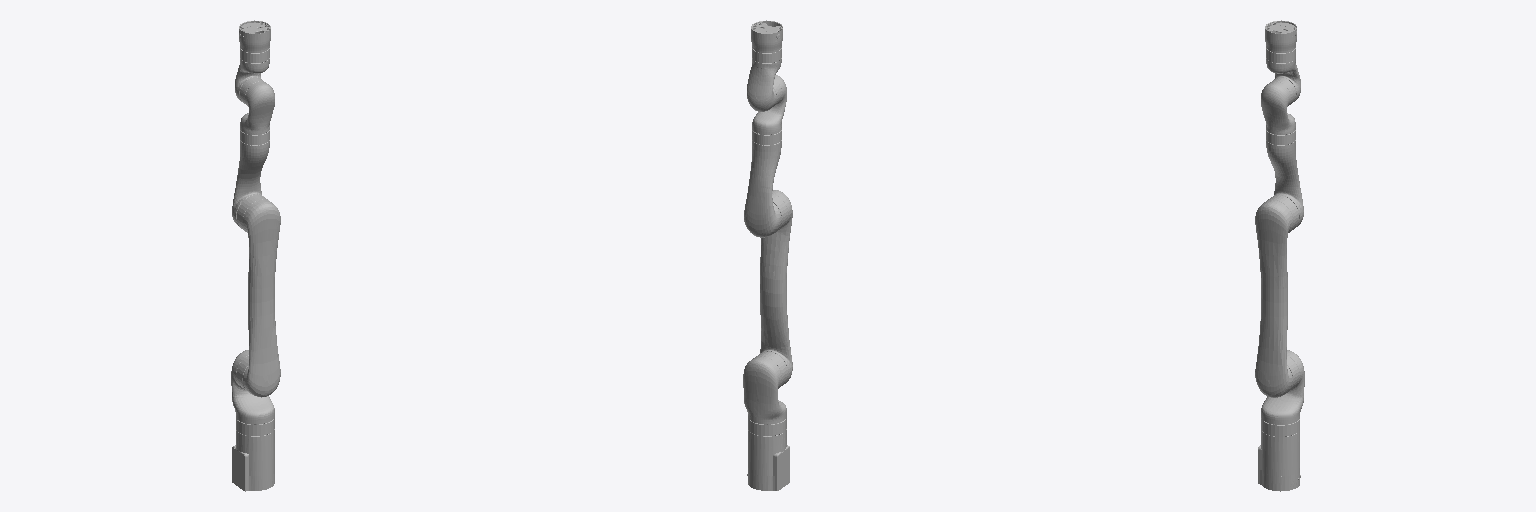
The robot description file, URDF, robot "GEN3-6DOF_NO-VISION_URDF_ARM_V01":
<robot name="GEN3-6DOF_NO-VISION_URDF_ARM_V01" version="1.0">
  <link name="base_link">
    <inertial>
      <origin xyz="-0.000648 -0.000166 0.084487" rpy="0 0 0" />
      <mass value="1.697" />
      <inertia ixx="0.004622" ixy="9E-06" ixz="6E-05" iyy="0.004495" iyz="9E-06" izz="0.002079" />
    </inertial>
    <visual>
      <origin xyz="0 0 0" rpy="0 0 0" />
      <geometry>
        <mesh filename="meshes/base_link.obj" />
      </geometry>
      <material name="">
        <color rgba="0.75294 0.75294 0.75294 1" />
      </material>
    </visual>
    <collision>
      <origin xyz="0 0 0" rpy="0 0 0" />
      <geometry>
        <mesh filename="meshes/base_link.obj" />
      </geometry>
    </collision>
  </link>
  <link name="shoulder_link">
    <inertial>
      <origin xyz="-2.3E-05 -0.010364 -0.07336" rpy="0 0 0" />
      <mass value="1.377" />
      <inertia ixx="0.00457" ixy="1E-06" ixz="2E-06" iyy="0.004831" iyz="0.000448" izz="0.001409" />
    </inertial>
    <visual>
      <origin xyz="0 0 0" rpy="0 0 0" />
      <geometry>
        <mesh filename="meshes/shoulder_link.obj" />
      </geometry>
      <material name="">
        <color rgba="0.75294 0.75294 0.75294 1" />
      </material>
    </visual>
    <collision>
      <origin xyz="0 0 0" rpy="0 0 0" />
      <geometry>
        <mesh filename="meshes/shoulder_link.obj" />
      </geometry>
    </collision>
  </link>
  <joint name="joint_1" type="revolute">
    <origin xyz="0 0 0.15643" rpy="-3.1416 0 0" />
    <parent link="base_link" />
    <child link="shoulder_link" />
    <axis xyz="0 0 1" />
    <limit lower="-1.05" upper="1.05" effort="39" velocity="0.8727" />
  </joint>
  <link name="bicep_link">
    <inertial>
      <origin xyz="3.5E-05 -0.208207 -0.01889" rpy="0 0 0" />
      <mass value="1.262" />
      <inertia ixx="0.046752" ixy="-9E-06" ixz="0" iyy="0.00085" iyz="-9.8E-05" izz="0.047188" />
    </inertial>
    <visual>
      <origin xyz="0 0 0" rpy="0 0 0" />
      <geometry>
        <mesh filename="meshes/bicep_link.obj" />
      </geometry>
      <material name="">
        <color rgba="0.75294 0.75294 0.75294 1" />
      </material>
    </visual>
    <collision>
      <origin xyz="0 0 0" rpy="0 0 0" />
      <geometry>
        <mesh filename="meshes/bicep_link.obj" />
      </geometry>
    </collision>
  </link>
  <joint name="joint_2" type="revolute">
    <origin xyz="0 0.005375 -0.12838" rpy="1.5708 0 0" />
    <parent link="shoulder_link" />
    <child link="bicep_link" />
    <axis xyz="0 0 1" />
    <limit lower="0" upper="2.41" effort="39" velocity="0.8727" />
  </joint>
  <link name="forearm_link">
    <inertial>
      <origin xyz="1.8E-05 0.076168 -0.01397" rpy="0 0 0" />
      <mass value="0.93" />
      <inertia ixx="0.008292" ixy="-1E-06" ixz="0" iyy="0.000628" iyz="0.000432" izz="0.008464" />
    </inertial>
    <visual>
      <origin xyz="0 0 0" rpy="0 0 0" />
      <geometry>
        <mesh filename="meshes/forearm_link.obj" />
      </geometry>
      <material name="">
        <color rgba="0.75294 0.75294 0.75294 1" />
      </material>
    </visual>
    <collision>
      <origin xyz="0 0 0" rpy="0 0 0" />
      <geometry>
        <mesh filename="meshes/forearm_link.obj" />
      </geometry>
    </collision>
  </link>
  <joint name="joint_3" type="revolute">
    <origin xyz="0 -0.41 0" rpy="3.1416 0 0" />
    <parent link="bicep_link" />
    <child link="forearm_link" />
    <axis xyz="0 0 1" />
    <limit lower="-2.66" upper="2.66" effort="39" velocity="0.8727" />
  </joint>
  <link name="spherical_wrist_1_link">
    <inertial>
      <origin xyz="-1E-06 0.008486 -0.062937" rpy="0 0 0" />
      <mass value="0.678" />
      <inertia ixx="0.001645" ixy="0" ixz="0" iyy="0.001666" iyz="-0.000234" izz="0.000389" />
    </inertial>
    <visual>
      <origin xyz="0 0 0" rpy="0 0 0" />
      <geometry>
        <mesh filename="meshes/spherical_wrist_1_link.obj" />
      </geometry>
      <material name="">
        <color rgba="0.75294 0.75294 0.75294 1" />
      </material>
    </visual>
    <collision>
      <origin xyz="0 0 0" rpy="0 0 0" />
      <geometry>
        <mesh filename="meshes/spherical_wrist_1_link.obj" />
      </geometry>
    </collision>
  </link>
  <joint name="joint_4" type="revolute">
    <origin xyz="0 0.20843 -0.006375" rpy="1.5708 0 0" />
    <parent link="forearm_link" />
    <child link="spherical_wrist_1_link" />
    <axis xyz="0 0 1" />
    <limit lower="-3.14" upper="3.14" effort="9" velocity="0.8727" />
  </joint>
  <link name="spherical_wrist_2_link">
    <inertial>
      <origin xyz="-1E-06 0.046429 -0.008704" rpy="0 0 0" />
      <mass value="0.678" />
      <inertia ixx="0.001685" ixy="0" ixz="0" iyy="0.0004" iyz="0.000255" izz="0.001696" />
    </inertial>
    <visual>
      <origin xyz="0 0 0" rpy="0 0 0" />
      <geometry>
        <mesh filename="meshes/spherical_wrist_2_link.obj" />
      </geometry>
      <material name="">
        <color rgba="0.75294 0.75294 0.75294 1" />
      </material>
    </visual>
    <collision>
      <origin xyz="0 0 0" rpy="0 0 0" />
      <geometry>
        <mesh filename="meshes/spherical_wrist_2_link.obj" />
      </geometry>
    </collision>
  </link>
  <joint name="joint_5" type="revolute">
    <origin xyz="0 -0.00017505 -0.10593" rpy="-1.5708 0 0" />
    <parent link="spherical_wrist_1_link" />
    <child link="spherical_wrist_2_link" />
    <axis xyz="0 0 1" />
    <limit lower="-2.23" upper="2.23" effort="9" velocity="0.8727" />
  </joint>
  <link name="bracelet_link">
    <inertial>
      <origin xyz="-9.3E-05 0.000132 -0.022905" rpy="0 0 0" />
      <mass value="0.364" />
      <inertia ixx="0.000214" ixy="0" ixz="1E-06" iyy="0.000223" iyz="-2E-06" izz="0.00024" />
    </inertial>
    <visual>
      <origin xyz="0 0 0" rpy="0 0 0" />
      <geometry>
        <mesh filename="meshes/bracelet_no_vision_link.obj" />
      </geometry>
      <material name="">
        <color rgba="0.75294 0.75294 0.75294 1" />
      </material>
    </visual>
    <collision>
      <origin xyz="0 0 0" rpy="0 0 0" />
      <geometry>
        <mesh filename="meshes/bracelet_no_vision_link.obj" />
      </geometry>
    </collision>
  </link>
  <joint name="joint_6" type="revolute">
    <origin xyz="0 0.10593 -0.00017505" rpy="1.5708 0 0" />
    <parent link="spherical_wrist_2_link" />
    <child link="bracelet_link" />
    <axis xyz="0 0 1" />
    <limit lower="-1.57" upper="1.57" effort="9" velocity="0.8727" />
  </joint>
  <link name="EndEffector_Link" />
  <joint name="EndEffector" type="fixed">
    <origin xyz="0 0 -0.061525" rpy="0 0 0" />
    <parent link="bracelet_link" />
    <child link="EndEffector_Link" />
    <axis xyz="0 0 0" />
  </joint>
</robot>

--- What the picture shows (computed from the rendered views, not written in the file) ---
The picture shows the robot from 3 angles, left to right: view 1: azimuth 30°, elevation 25°; view 2: azimuth 150°, elevation 25°; view 3: azimuth 330°, elevation 25°; orthographic projection.
Model GEN3-6DOF_NO-VISION_URDF_ARM_V01 with 8 links and 7 joints (6 revolute, 1 fixed), rooted at base_link, posed all joints at 0.
Links seen in each view (by area): view 1: bicep_link, base_link, forearm_link, shoulder_link, spherical_wrist_1_link, bracelet_link, spherical_wrist_2_link; view 2: bicep_link, forearm_link, base_link, shoulder_link, spherical_wrist_2_link, spherical_wrist_1_link, bracelet_link; view 3: bicep_link, base_link, forearm_link, shoulder_link, spherical_wrist_1_link, bracelet_link, spherical_wrist_2_link.
Link boxes in pixels (x1=…): bicep_link: x1=237, y1=195, x2=280, y2=397; base_link: x1=232, y1=418, x2=274, y2=491; forearm_link: x1=232, y1=130, x2=269, y2=225; shoulder_link: x1=231, y1=350, x2=274, y2=424; spherical_wrist_1_link: x1=240, y1=77, x2=274, y2=134; bracelet_link: x1=239, y1=20, x2=270, y2=52; spherical_wrist_2_link: x1=235, y1=48, x2=269, y2=101; bicep_link: x1=760, y1=190, x2=792, y2=383; forearm_link: x1=744, y1=130, x2=781, y2=237; base_link: x1=747, y1=418, x2=789, y2=490; shoulder_link: x1=743, y1=351, x2=787, y2=424; spherical_wrist_2_link: x1=747, y1=48, x2=781, y2=111; spherical_wrist_1_link: x1=752, y1=75, x2=786, y2=134; bracelet_link: x1=751, y1=20, x2=782, y2=52; bicep_link: x1=1255, y1=195, x2=1298, y2=397; base_link: x1=1258, y1=418, x2=1300, y2=491; forearm_link: x1=1266, y1=130, x2=1303, y2=226; shoulder_link: x1=1261, y1=350, x2=1304, y2=424; spherical_wrist_1_link: x1=1261, y1=77, x2=1295, y2=134; bracelet_link: x1=1265, y1=20, x2=1296, y2=52; spherical_wrist_2_link: x1=1266, y1=48, x2=1300, y2=101.
Bounding box of the posed robot: 0.0928 × 0.1127 × 1.18 m (x, y, z).
7 mesh visuals loaded from 7 distinct referenced files (7 OBJ).